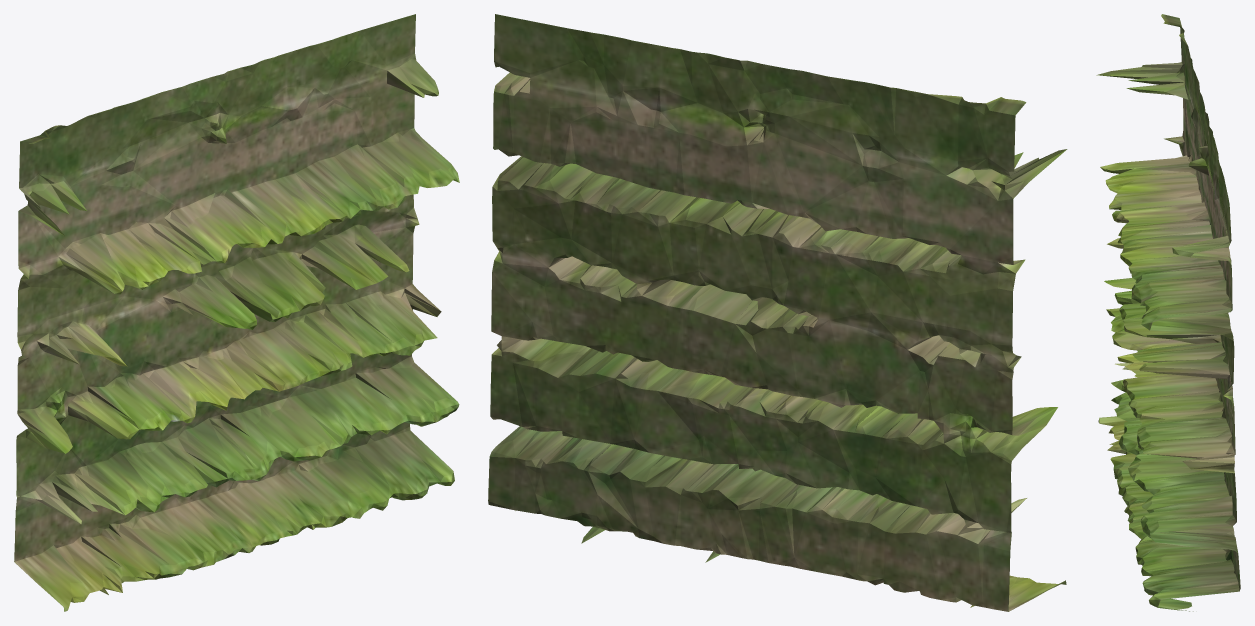
Rendered from map_90_60.obj.
The picture shows the model from 3 angles, left to right: view 1: azimuth 30°, elevation 25°; view 2: azimuth 150°, elevation 25°; view 3: azimuth 270°, elevation 25°; orthographic projection. The views are drawn at different scales.
Parts seen in each view (by area): view 1: grp1; view 2: grp1; view 3: grp1.
Part boxes in pixels (x1,y1,x2,y2): grp1: (14,14,459,611); grp1: (488,14,1067,611); grp1: (1096,14,1240,611).
Bounding box in the file's own units: 10 × 10 × 3.21.
Materials: 1 (1 with a texture image).
